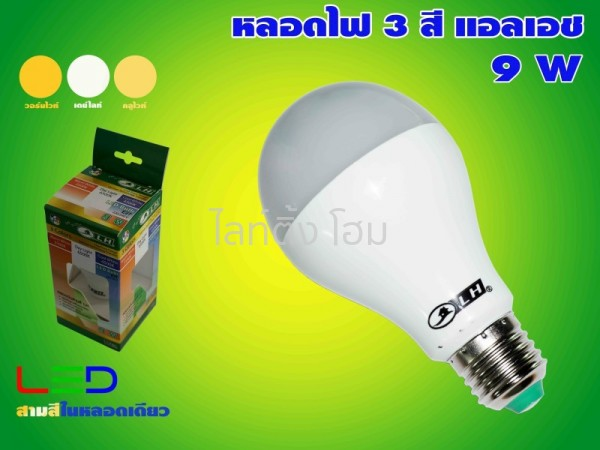Light_bulb: (251, 67, 552, 421)
